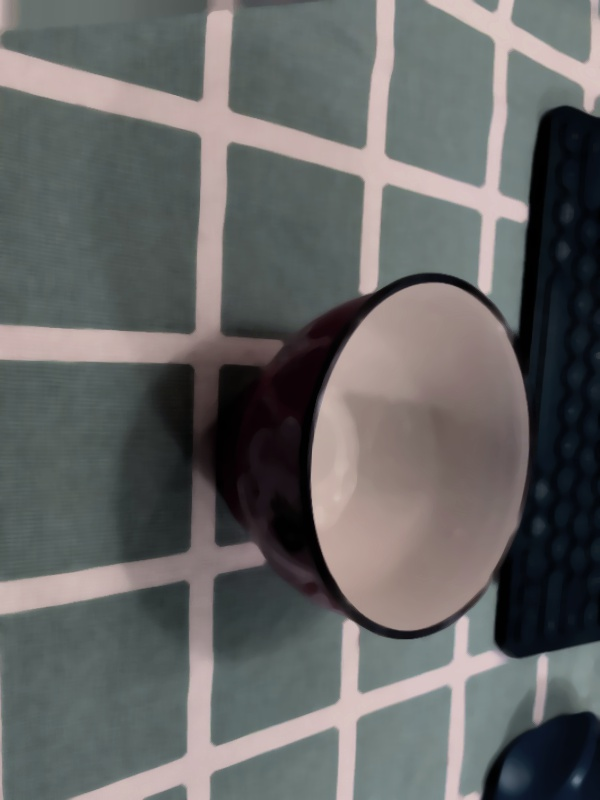bowl_small: (201, 263, 553, 656)
